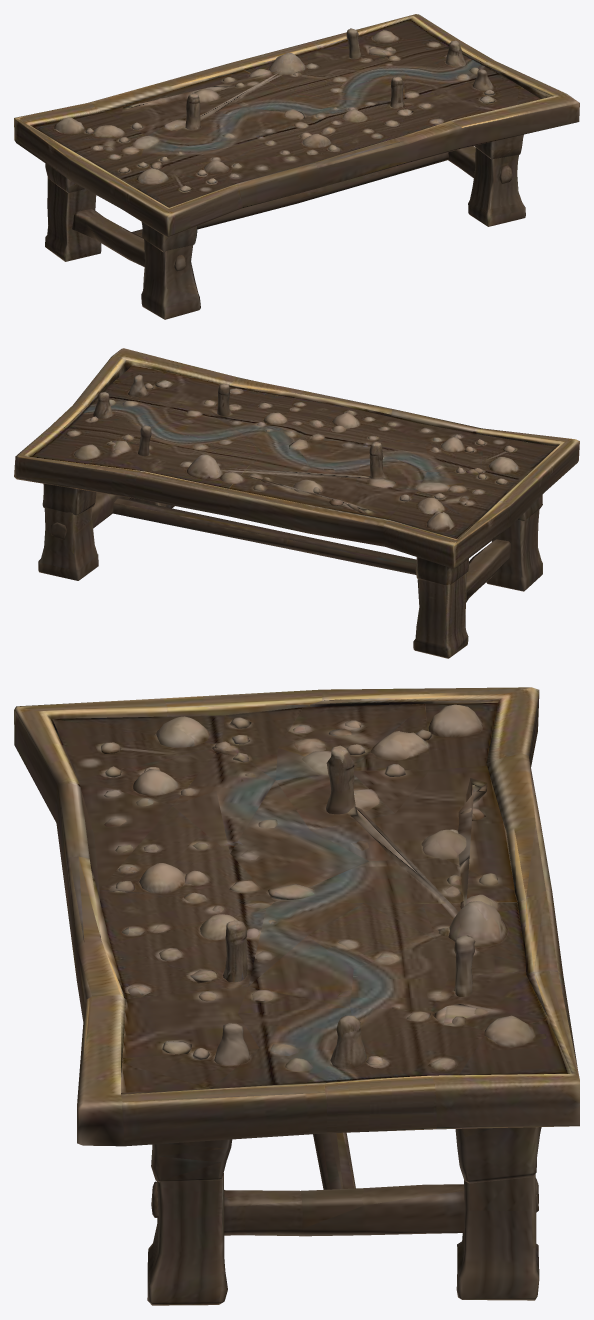
The model's file is sd_mesa.glb.
The picture shows the model from 3 angles, top to bottom: view 1: azimuth 30°, elevation 25°; view 2: azimuth 150°, elevation 25°; view 3: azimuth 270°, elevation 25°; orthographic projection. The views are drawn at different scales.
Visible parts, largest first — view 1: Mesh_0; view 2: Mesh_0; view 3: Mesh_0.
Part boxes in pixels (x1=…): Mesh_0: x1=14, y1=14, x2=579, y2=319; Mesh_0: x1=14, y1=348, x2=579, y2=658; Mesh_0: x1=14, y1=687, x2=579, y2=1305.
Bounding box in the file's own units: 0.6092 × 0.205 × 0.3542.
1 material, 1 textured.
